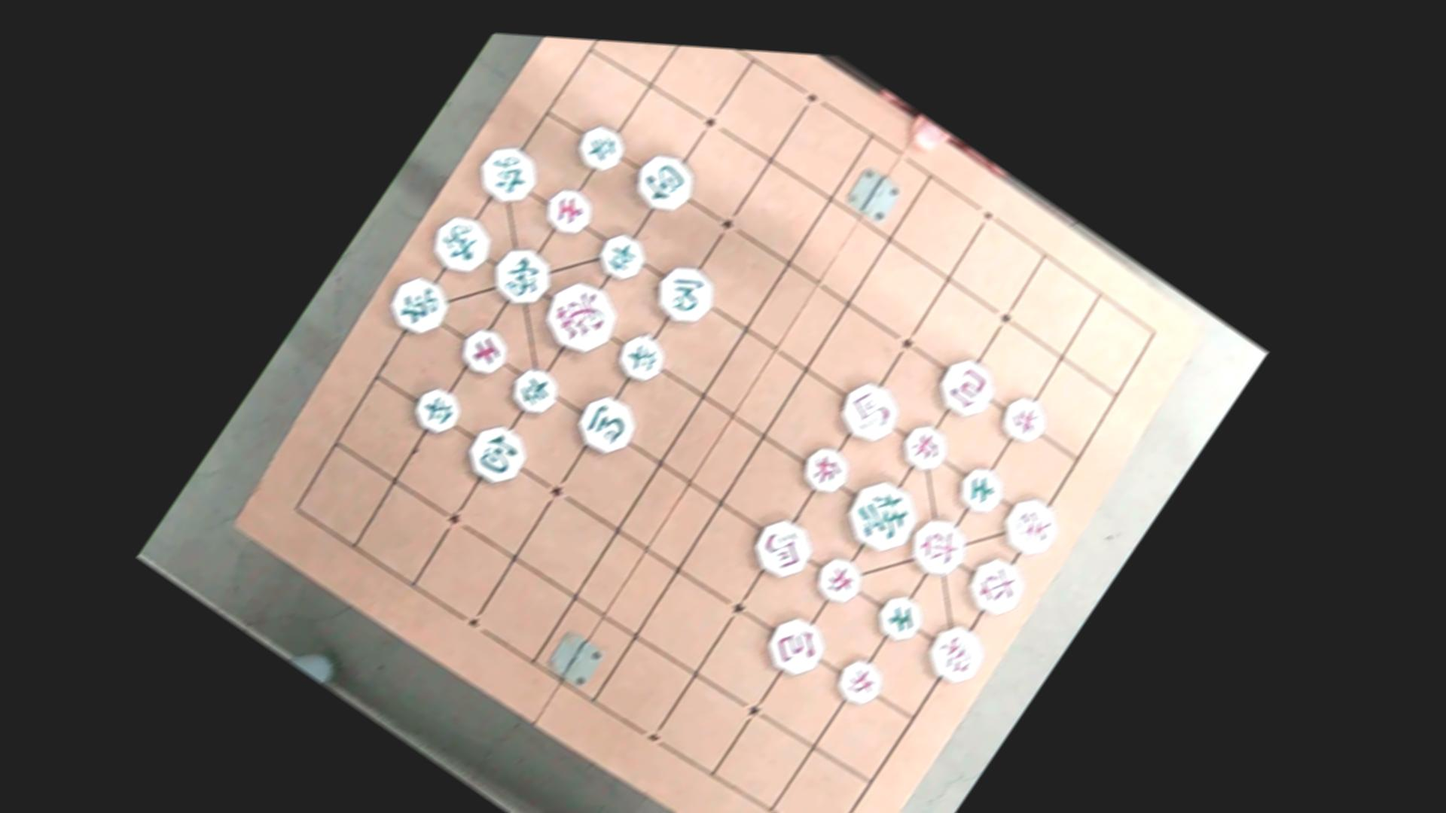cha_green: (379, 265, 456, 346), (468, 135, 545, 215)
cha_red: (897, 504, 975, 587), (957, 545, 1034, 626)
jol_green: (607, 323, 676, 394), (568, 114, 635, 183), (499, 357, 566, 424), (590, 223, 653, 290), (406, 378, 467, 442)
jol_red: (825, 647, 892, 717), (795, 436, 858, 502), (807, 547, 870, 613), (895, 413, 956, 478), (993, 385, 1054, 449)
ma_green: (566, 384, 645, 467), (645, 254, 724, 335)
ma_red: (828, 370, 908, 454), (743, 507, 822, 587)
po_green: (459, 413, 535, 492), (627, 142, 703, 221)
po_red: (929, 347, 1004, 425), (758, 608, 832, 687)
sa_green: (950, 457, 1011, 522), (870, 587, 929, 650)
sa_red: (537, 178, 601, 244), (453, 319, 517, 384)
sang_green: (483, 236, 564, 318), (424, 203, 501, 283)
sang_red: (993, 486, 1068, 565), (920, 615, 995, 692)
wang_green: (837, 467, 928, 563)
wang_red: (532, 267, 630, 367)
